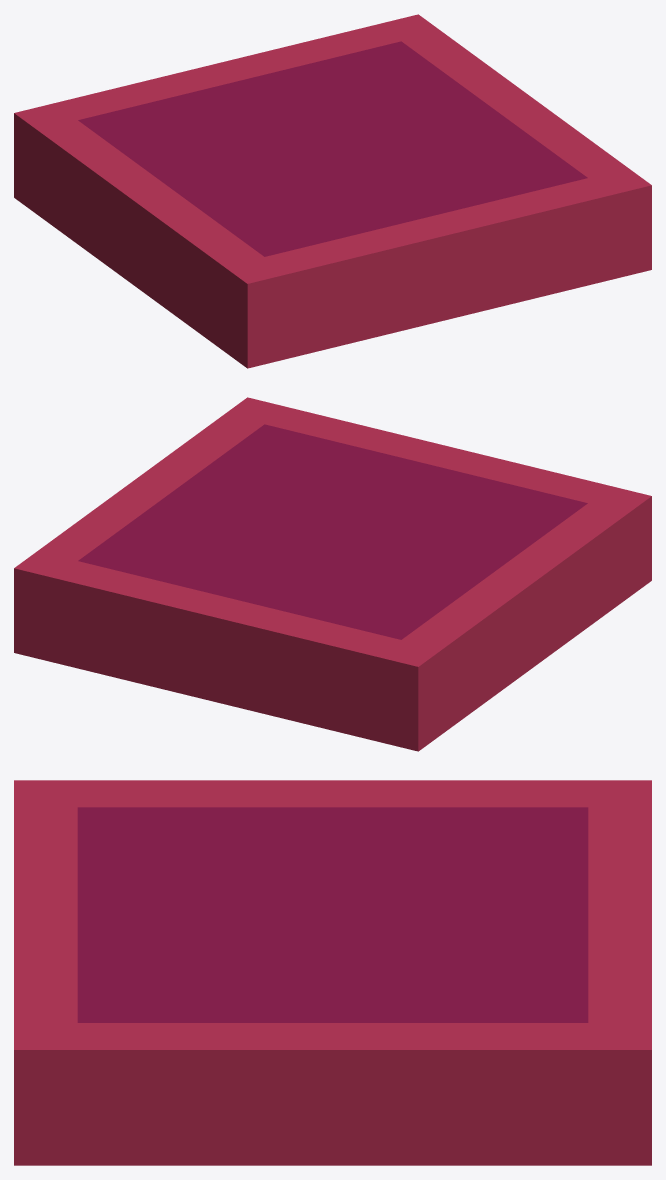
Rendered from plant_pot_red.gltf.
3 renders of one model, top to bottom at view 1: azimuth 30°, elevation 25°; view 2: azimuth 150°, elevation 25°; view 3: azimuth 270°, elevation 25°, orthographic. The views are drawn at different scales.
Visible parts, largest first — view 1: plant_pot_red; view 2: plant_pot_red; view 3: plant_pot_red.
Boxes of the visible parts, x1,y1,x2,y2 form: plant_pot_red: (14, 14, 651, 368); plant_pot_red: (14, 397, 651, 751); plant_pot_red: (14, 780, 651, 1165).
Size of the model in its own units: 1 by 0.2 by 1.
Materials: 1 (1 with a texture image).
